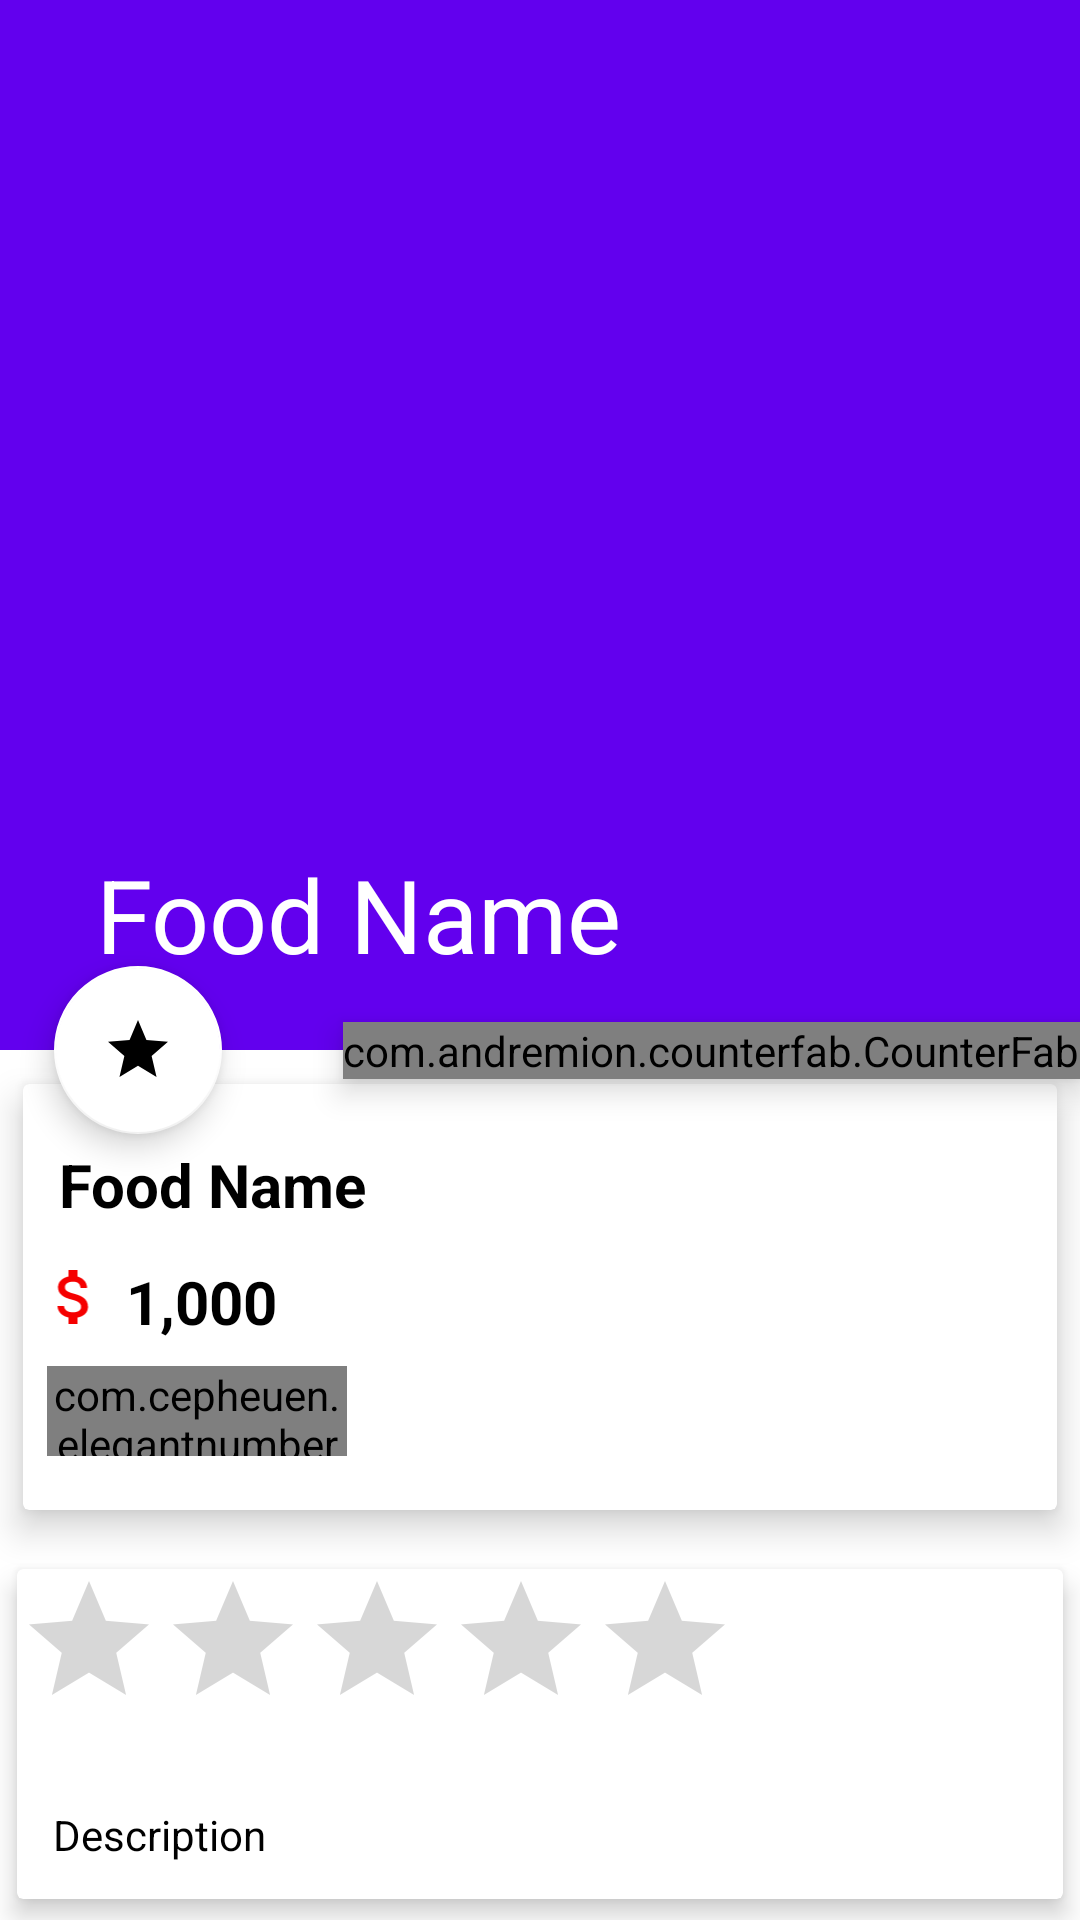

Icon bounding boxes for this 1080 × 1920 phone screenshot, format (x1, y1, x2, y2):
money: (57, 1270, 89, 1324)
